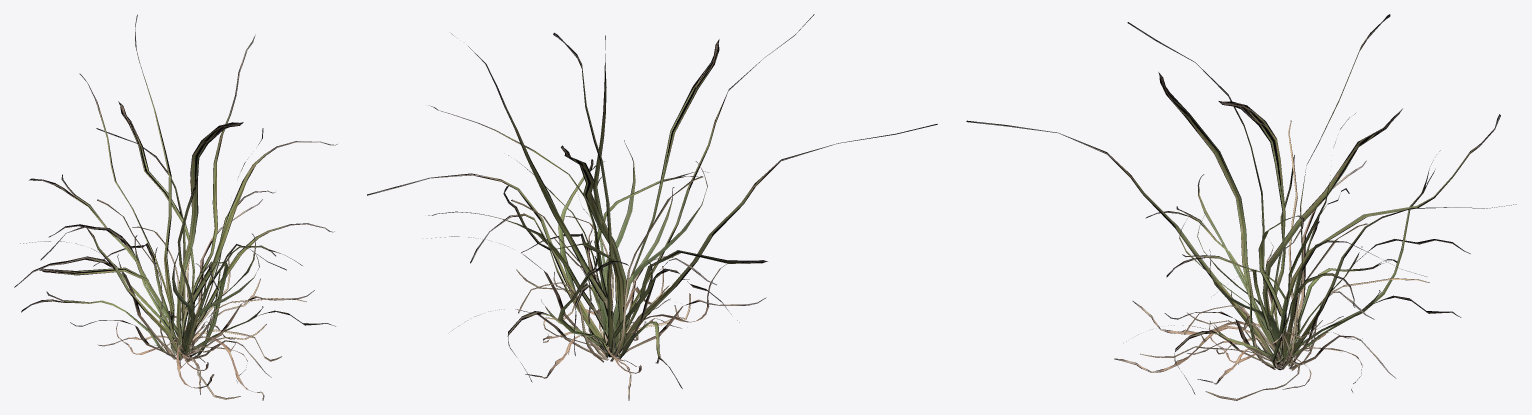
The model's file is grass_medium_02_d.gltf.
The picture shows the model from 3 angles, left to right: view 1: azimuth 30°, elevation 25°; view 2: azimuth 150°, elevation 25°; view 3: azimuth 270°, elevation 25°; orthographic projection. The views are drawn at different scales.
Visible parts, largest first — view 1: grass_medium_02_d; view 2: grass_medium_02_d; view 3: grass_medium_02_d.
Part boxes in pixels (box(x1,y1,x2,y2)): grass_medium_02_d: box(14, 14, 337, 400); grass_medium_02_d: box(367, 14, 937, 400); grass_medium_02_d: box(966, 14, 1516, 400).
Size of the model in its own units: 0.3174 by 0.2604 by 0.3619.
1 material, 1 textured.
